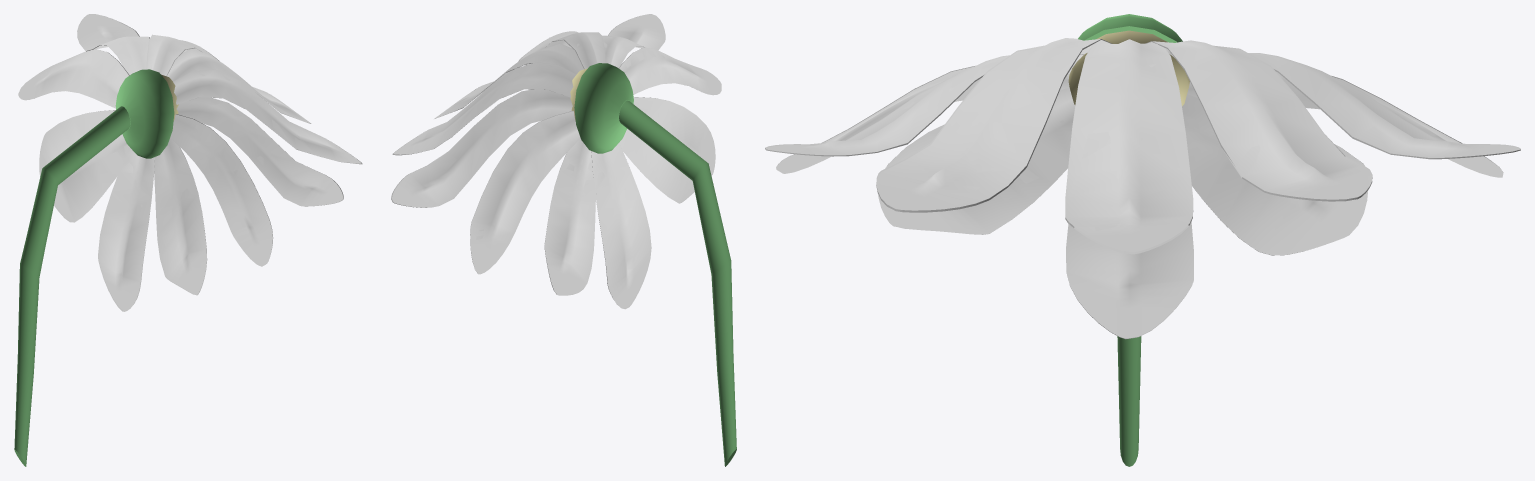
The model's file is FlorAnimation.fbx.
The picture shows the model from 3 angles, left to right: view 1: azimuth 30°, elevation 25°; view 2: azimuth 150°, elevation 25°; view 3: azimuth 270°, elevation 25°; orthographic projection. The views are drawn at different scales.
Parts seen in each view (by area): view 1: Cylinder02, Line06, Line08, Line07, Line09, Line05, Line10, Cylinder01, Line04, Line03, Line01, Line02; view 2: Cylinder02, Line04, Line03, Line06, Line05, Line07, Cylinder01, Line02, Line08, Line09, Line01, Line10; view 3: Line01, Line10, Line02, Line05, Line06, Line03, Line07, Line09, Cylinder02, Line08, Line04, Cylinder01 (+1 smaller).
Boxes of the visible parts, x1,y1,x2,y2 form: Cylinder02: [14, 106, 130, 466]; Line06: [98, 146, 155, 311]; Line08: [170, 114, 273, 266]; Line07: [154, 138, 207, 295]; Line09: [176, 97, 343, 206]; Line05: [39, 110, 128, 222]; Line10: [173, 69, 362, 164]; Cylinder01: [115, 69, 174, 158]; Line04: [18, 49, 129, 108]; Line03: [77, 14, 149, 75]; Line01: [167, 49, 311, 123]; Line02: [146, 34, 218, 76]; Cylinder02: [619, 100, 736, 466]; Line04: [470, 111, 580, 274]; Line03: [391, 89, 572, 207]; Line06: [591, 143, 651, 309]; Line05: [544, 138, 596, 295]; Line07: [619, 97, 715, 203]; Cylinder01: [574, 63, 633, 153]; Line02: [392, 62, 576, 155]; Line08: [619, 47, 721, 95]; Line09: [602, 14, 665, 68]; Line01: [434, 43, 583, 118]; Line10: [518, 31, 605, 69]; Line01: [1065, 39, 1193, 254]; Line10: [876, 38, 1112, 212]; Line02: [1145, 40, 1372, 201]; Line05: [1182, 94, 1368, 255]; Line06: [1066, 221, 1193, 339]; Line03: [1169, 53, 1520, 159]; Line07: [878, 87, 1075, 234]; Line09: [765, 54, 1083, 156]; Cylinder02: [1117, 336, 1141, 466]; Line08: [776, 66, 1071, 173]; Line04: [1187, 71, 1503, 177]; Cylinder01: [1078, 14, 1182, 42].
Bounding box in the file's own units: 14.56 × 17.62 × 22.12.
